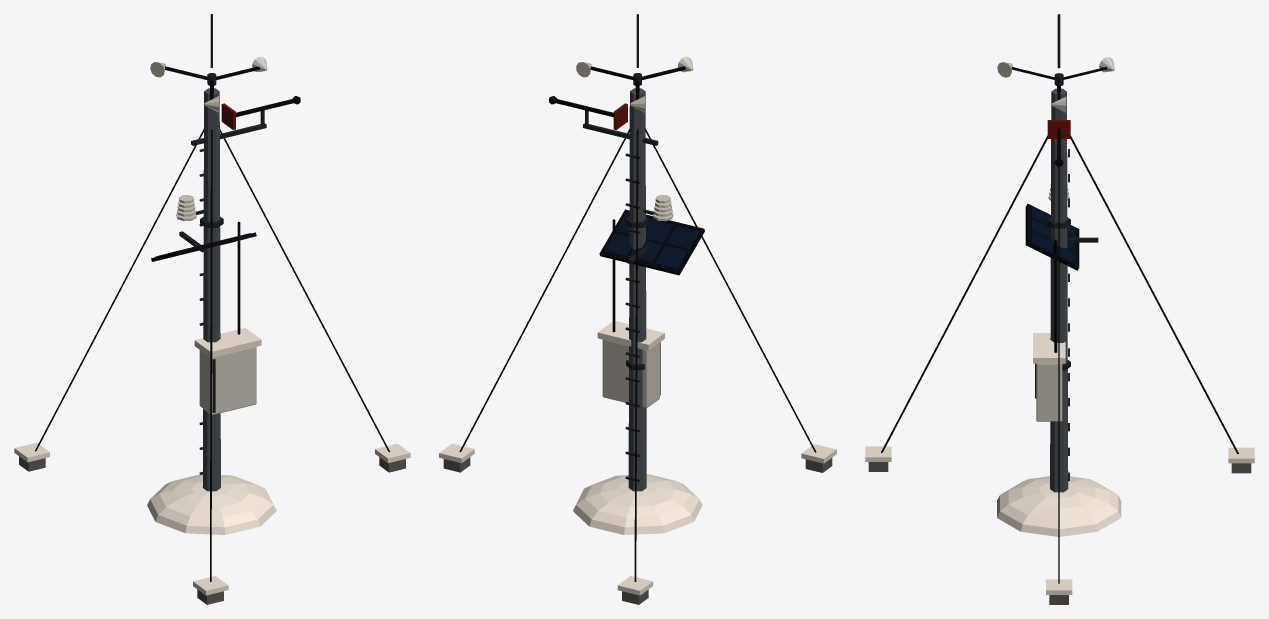
The model's file is rs_weather_mast.glb.
The picture shows the model from 3 angles, left to right: view 1: azimuth 30°, elevation 25°; view 2: azimuth 150°, elevation 25°; view 3: azimuth 270°, elevation 25°; orthographic projection.
Visible parts, largest first — view 1: mast, anemometer; view 2: mast, anemometer; view 3: mast, anemometer.
Boxes of the visible parts, x1,y1,x2,y2 form: mast: (14, 14, 410, 604); anemometer: (150, 56, 267, 112); mast: (439, 14, 836, 604); anemometer: (576, 56, 693, 112); mast: (865, 14, 1254, 604); anemometer: (997, 57, 1114, 112).
Bounding box in the file's own units: 5.22 × 8.4 × 5.95.
